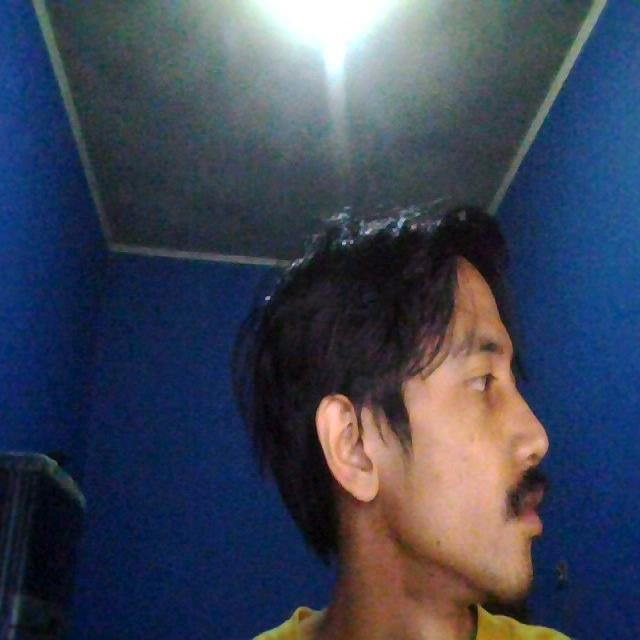melihat kekiri: (223, 218, 566, 602)
